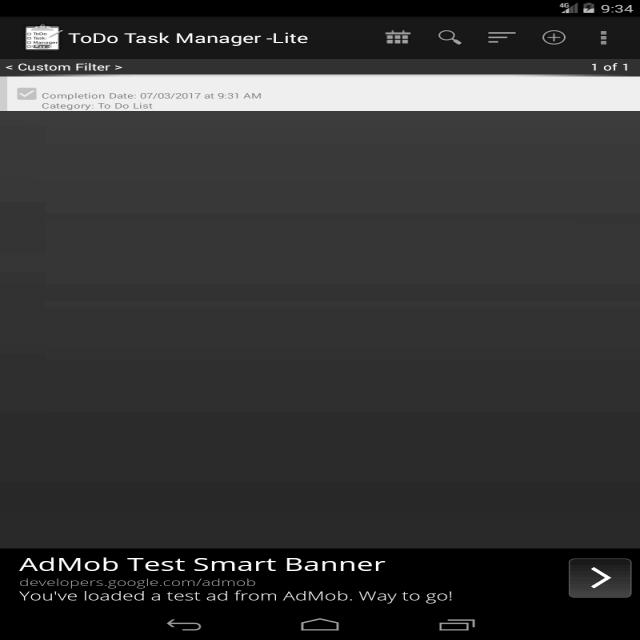CheckBox: (11, 83, 39, 104)
ImageButton: (380, 24, 419, 48), (478, 30, 518, 49), (538, 28, 571, 48), (435, 28, 466, 48), (588, 30, 614, 48)
ImageView: (21, 25, 62, 53)
TextView: (18, 554, 466, 604), (70, 30, 311, 46), (42, 90, 269, 104)
